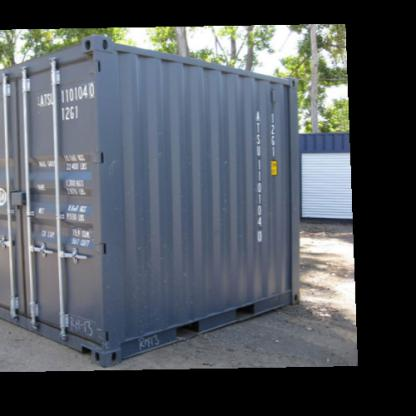Damage: (61, 315, 104, 347), (125, 329, 168, 347), (99, 150, 122, 181), (219, 152, 230, 168)
